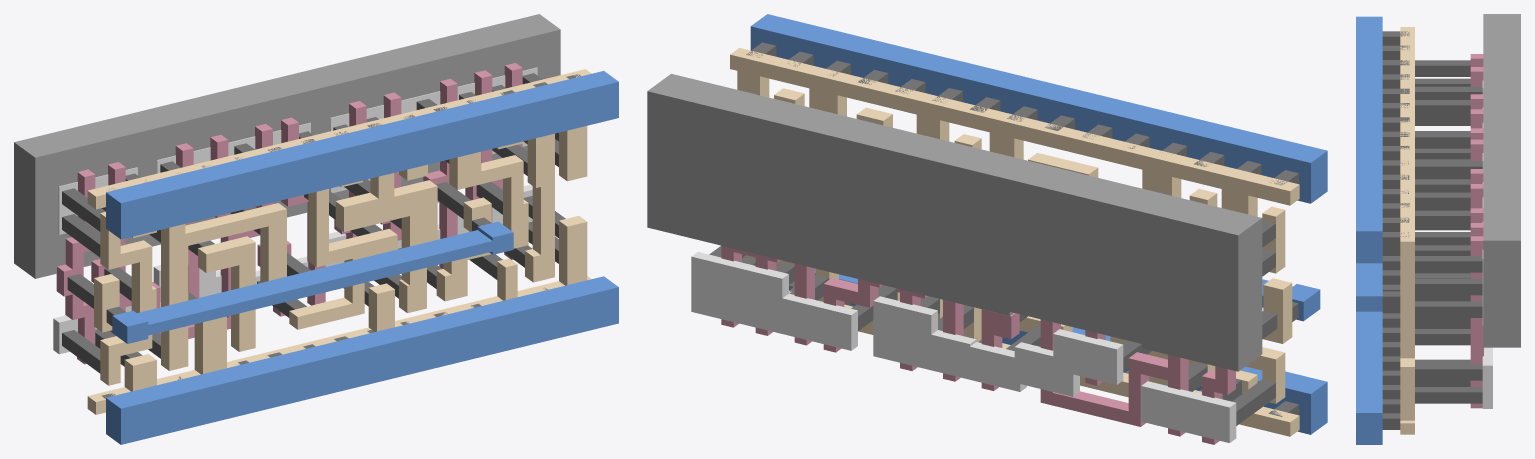
The model's file is sky130_fd_sc_hd__dlclkp_2.gds.gltf.
3 views of the same model, side by side, from view 1: azimuth 30°, elevation 25°; view 2: azimuth 150°, elevation 25°; view 3: azimuth 270°, elevation 25° (orthographic). The views are drawn at different scales.
Visible parts, largest first — view 1: sky130_fd_sc_hd__dlclkp_2_met1, sky130_fd_sc_hd__dlclkp_2_li1, sky130_fd_sc_hd__dlclkp_2_nwell, sky130_fd_sc_hd__dlclkp_2_poly, sky130_fd_sc_hd__dlclkp_2_licon, sky130_fd_sc_hd__dlclkp_2_diff, sky130_fd_sc_hd__dlclkp_2_mcon; view 2: sky130_fd_sc_hd__dlclkp_2_nwell, sky130_fd_sc_hd__dlclkp_2_li1, sky130_fd_sc_hd__dlclkp_2_diff, sky130_fd_sc_hd__dlclkp_2_met1, sky130_fd_sc_hd__dlclkp_2_poly, sky130_fd_sc_hd__dlclkp_2_licon, sky130_fd_sc_hd__dlclkp_2_mcon; view 3: sky130_fd_sc_hd__dlclkp_2_licon, sky130_fd_sc_hd__dlclkp_2_nwell, sky130_fd_sc_hd__dlclkp_2_met1, sky130_fd_sc_hd__dlclkp_2_mcon, sky130_fd_sc_hd__dlclkp_2_li1, sky130_fd_sc_hd__dlclkp_2_poly, sky130_fd_sc_hd__dlclkp_2_diff.
Boxes of the visible parts, x1,y1,x2,y2 form: sky130_fd_sc_hd__dlclkp_2_met1: (106,71,618,444); sky130_fd_sc_hd__dlclkp_2_li1: (87,69,591,414); sky130_fd_sc_hd__dlclkp_2_nwell: (14,14,560,278); sky130_fd_sc_hd__dlclkp_2_poly: (56,63,522,364); sky130_fd_sc_hd__dlclkp_2_licon: (62,73,565,373); sky130_fd_sc_hd__dlclkp_2_diff: (53,67,537,354); sky130_fd_sc_hd__dlclkp_2_mcon: (101,74,580,398); sky130_fd_sc_hd__dlclkp_2_nwell: (647,73,1262,371); sky130_fd_sc_hd__dlclkp_2_li1: (730,48,1299,436); sky130_fd_sc_hd__dlclkp_2_diff: (691,252,1236,442); sky130_fd_sc_hd__dlclkp_2_met1: (750,14,1327,434); sky130_fd_sc_hd__dlclkp_2_poly: (721,245,1235,444); sky130_fd_sc_hd__dlclkp_2_licon: (709,90,1277,425); sky130_fd_sc_hd__dlclkp_2_mcon: (746,42,1298,416); sky130_fd_sc_hd__dlclkp_2_licon: (1415,60,1482,403); sky130_fd_sc_hd__dlclkp_2_nwell: (1483,14,1520,347); sky130_fd_sc_hd__dlclkp_2_met1: (1356,16,1382,444); sky130_fd_sc_hd__dlclkp_2_mcon: (1382,31,1409,429); sky130_fd_sc_hd__dlclkp_2_li1: (1400,27,1414,434); sky130_fd_sc_hd__dlclkp_2_poly: (1470,54,1483,408); sky130_fd_sc_hd__dlclkp_2_diff: (1482,80,1492,408).
Bounding box in the file's own units: 7.28 × 3.2 × 2.24.
